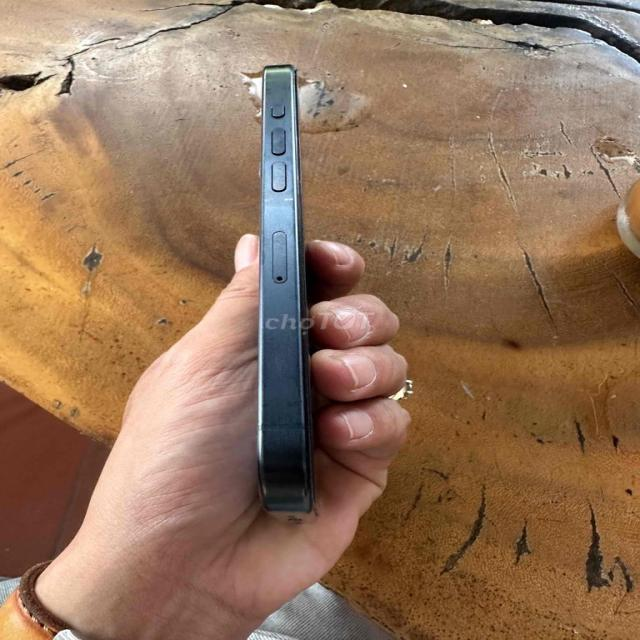gen_15: (232, 53, 322, 522)
scratch: (260, 341, 308, 415), (260, 187, 315, 220)
